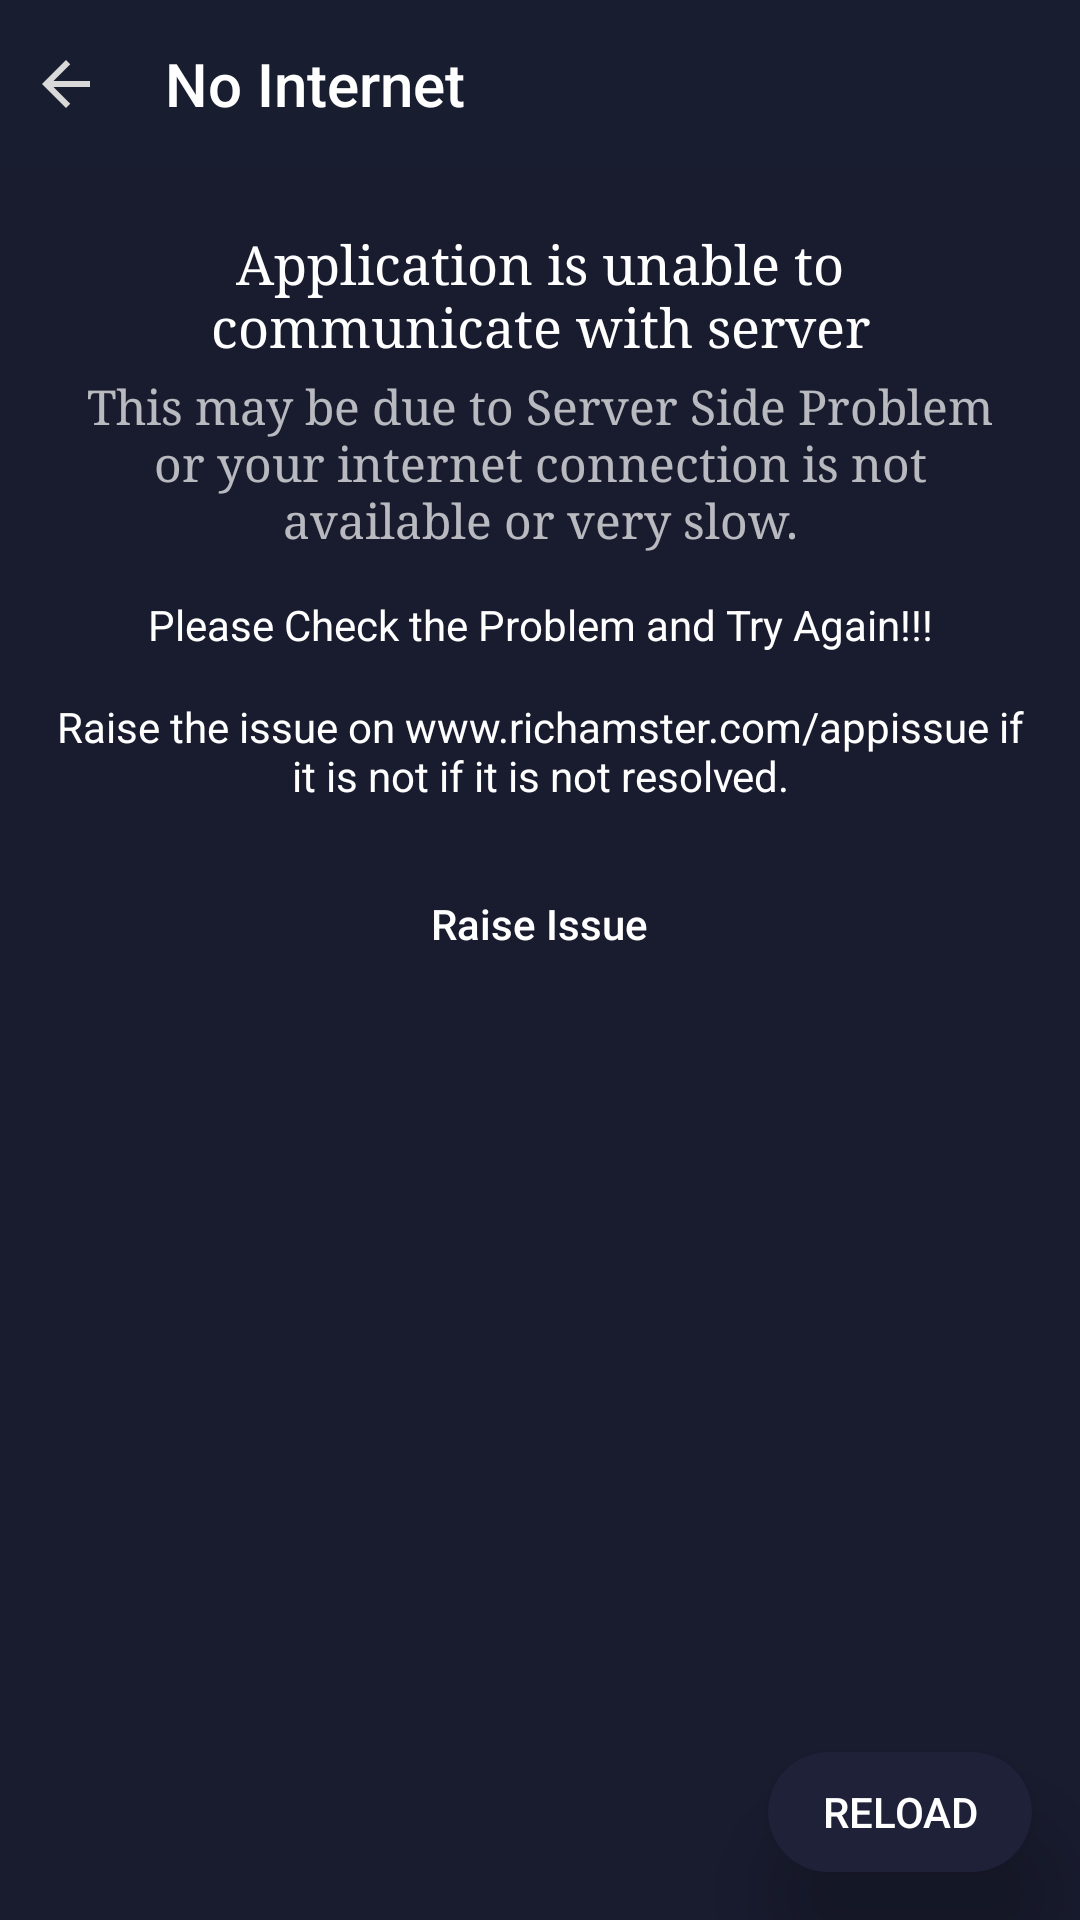

Locate icon controls on the screen. Image size 1080px×1920px, boxes as (left=x1, top=y1, right=x2, bottom=y2).
arrow back: (left=42, top=60, right=90, bottom=108)
